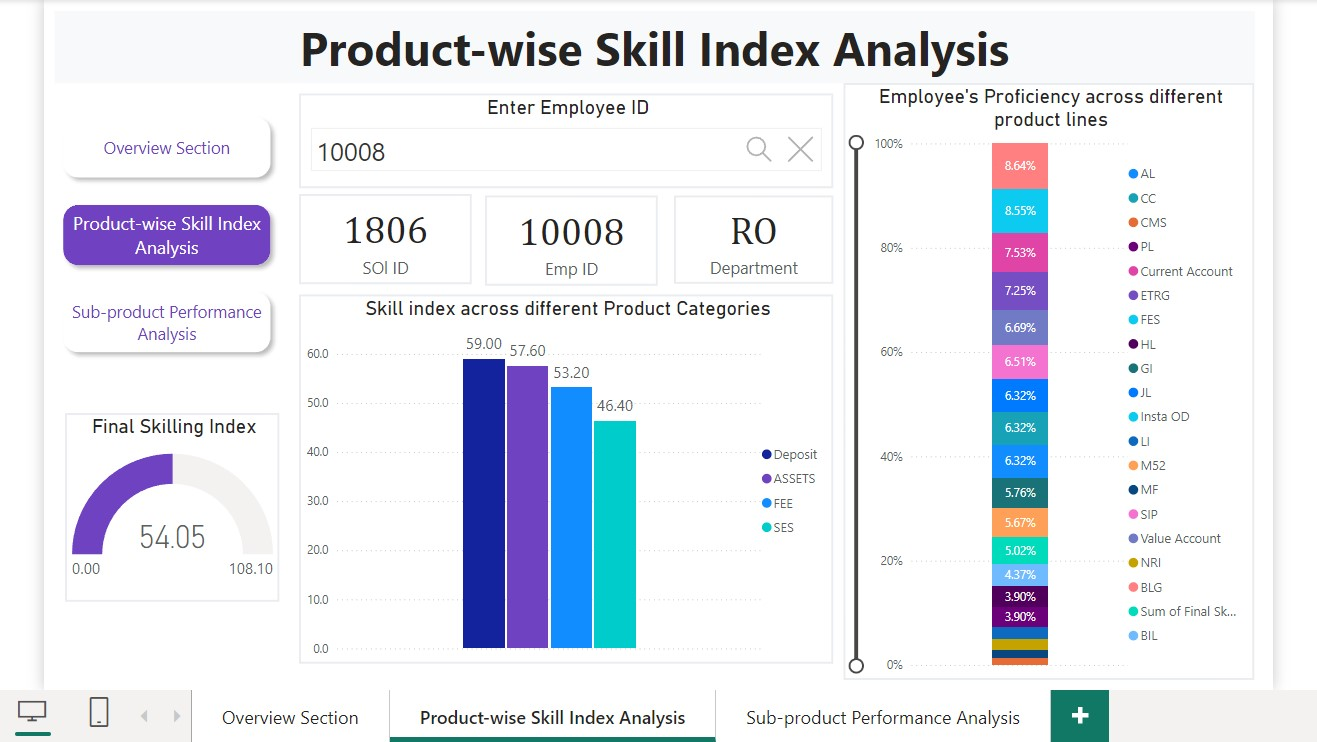

This screenshot's page, from the dashboard's own definition file:
{"tool":"powerbi","page":{"name":"Product-wise Skill Index Analysis","canvas":[1280,720],"ordinal":1},"visuals":[{"type":"pageNavigator","box":[10.9,114.1,234.4,265.7],"z":0},{"type":"textbox","box":[10.9,12.5,1250.4,75],"z":1000},{"type":"gauge","title":"Final Skilling Index","fields":{"Y":["Avg(Dataset.Final Skilling Index)"]},"box":[21.9,431.4,223.5,196.9],"z":2000},{"type":"card","fields":{"Values":["Sum(Dataset.SOl ID)"]},"box":[265.7,203.2,179.7,93.8],"z":3000},{"type":"clusteredColumnChart","title":"Skill index across different Product Categories","fields":{"Y":["Avg(Dataset.Deposit)","Avg(Dataset.ASSETS)","Avg(Dataset.FEE)","Avg(Dataset.SES)"]},"box":[265.7,307.9,556.4,384.5],"z":4000},{"type":"textSearchSlicerF85E2E78BE4A4D7D9F99ED75B5D71C85","title":"Enter Employee ID","fields":{"fields":["Dataset.Emp_ID_text"]},"box":[265.7,98.5,556.4,98.5],"z":5000},{"type":"card","fields":{"Values":["Max(Dataset.Role)"]},"box":[656.5,204.8,165.7,92.2],"z":6000},{"type":"hundredPercentStackedColumnChart","title":"Employee''s Proficiency across different product lines","fields":{"Y":["Sum(Dataset.AL)","Sum(Dataset.CC)","Sum(Dataset.CMS)","Sum(Dataset.PL)","Sum(Dataset.Current Account )","Sum(Dataset.ETRG)","Sum(Dataset.FES)","Sum(Dataset.HL )","Sum(Dataset.GI)","Sum(Dataset.JL)","Sum(Dataset.Insta OD)","Sum(Dataset.LI)"]},"box":[833.1,87.5,428.3,622.1],"z":7000},{"type":"card","fields":{"Values":["Min(Dataset.Emp_ID_text)"]},"box":[459.5,204.8,179.7,93.8],"z":8000}]}

Visuals, with their boxes on the page's 1280x720 design canvas (x1, y1, x2, y2). These are canvas units, not pixel positions in the 1317x742 screenshot, which may show the page scaled, cropped or inside an application window:
pageNavigator: rect(11, 114, 245, 380)
textbox: rect(11, 12, 1261, 88)
"Final Skilling Index" gauge: rect(22, 431, 245, 628)
card - Sum(Dataset.SOl ID): rect(266, 203, 445, 297)
"Skill index across different Product Categories" clusteredColumnChart: rect(266, 308, 822, 692)
"Enter Employee ID" textSearchSlicerF85E2E78BE4A4D7D9F99ED75B5D71C85: rect(266, 98, 822, 197)
card - Max(Dataset.Role): rect(656, 205, 822, 297)
"Employee''s Proficiency across different product lines" hundredPercentStackedColumnChart: rect(833, 88, 1261, 710)
card - Min(Dataset.Emp_ID_text): rect(460, 205, 639, 299)
